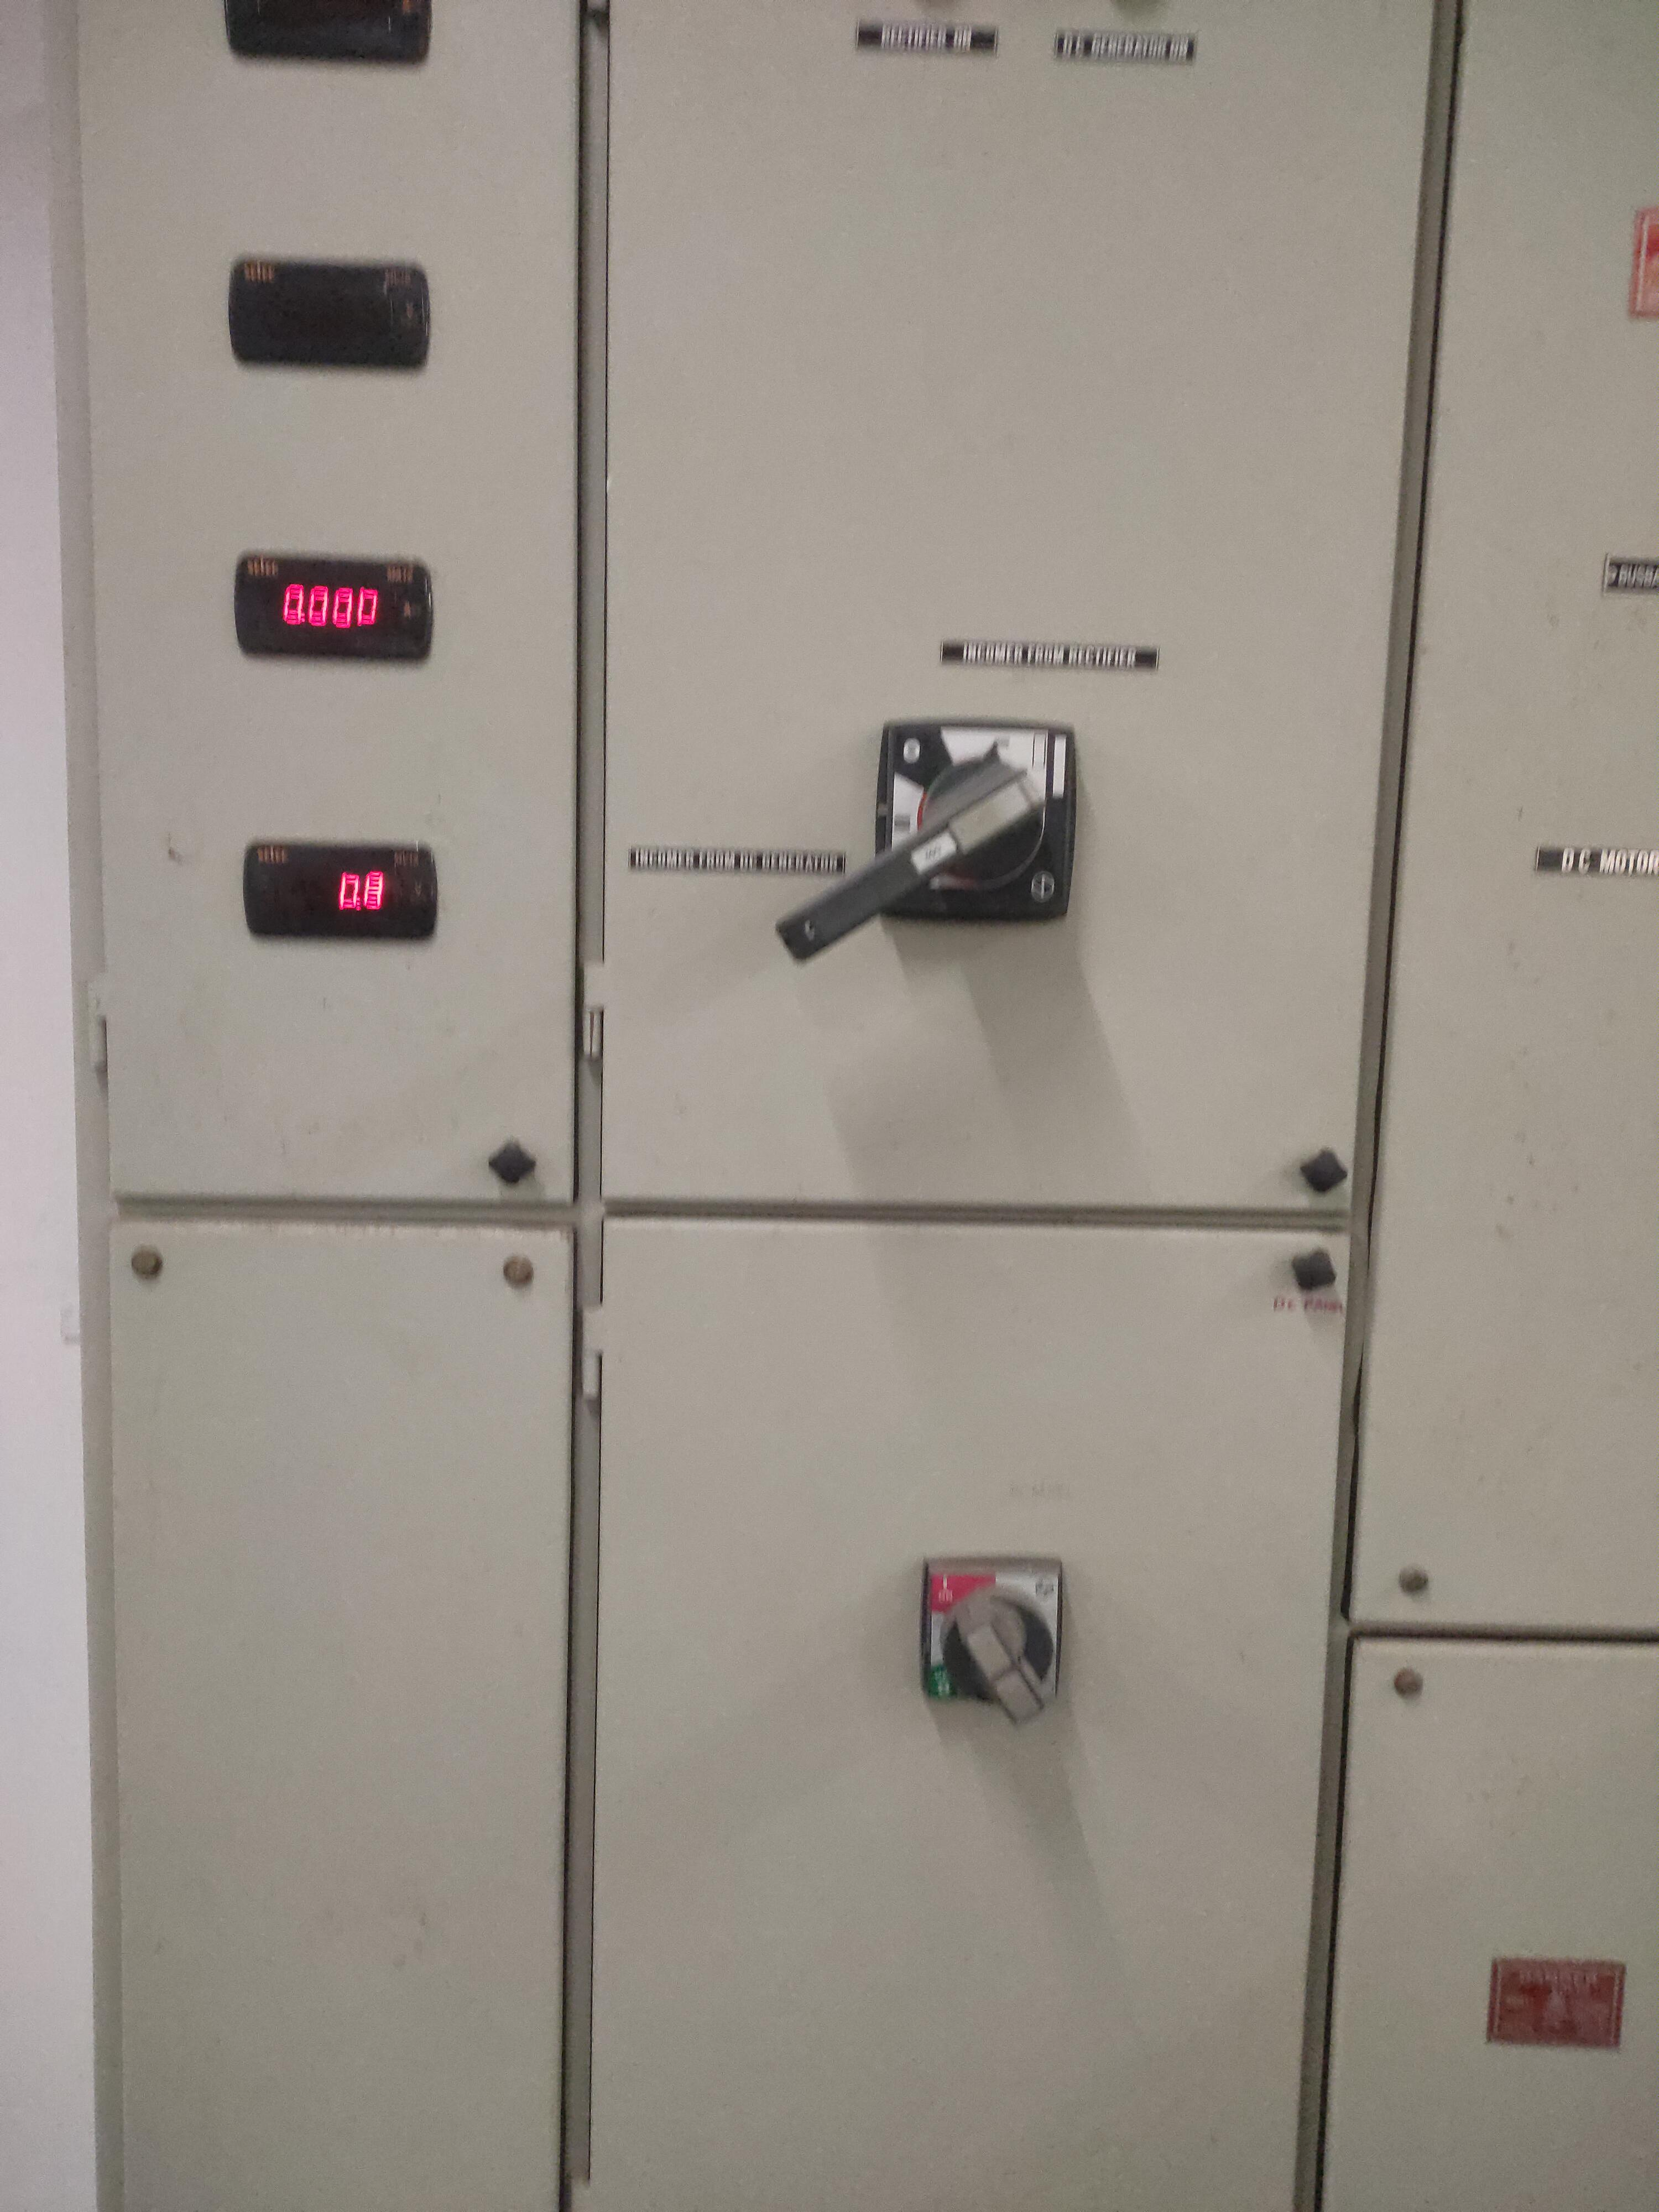Knob 1: (755, 688, 1147, 1028)
Knob 2: (878, 1524, 1115, 1754)
